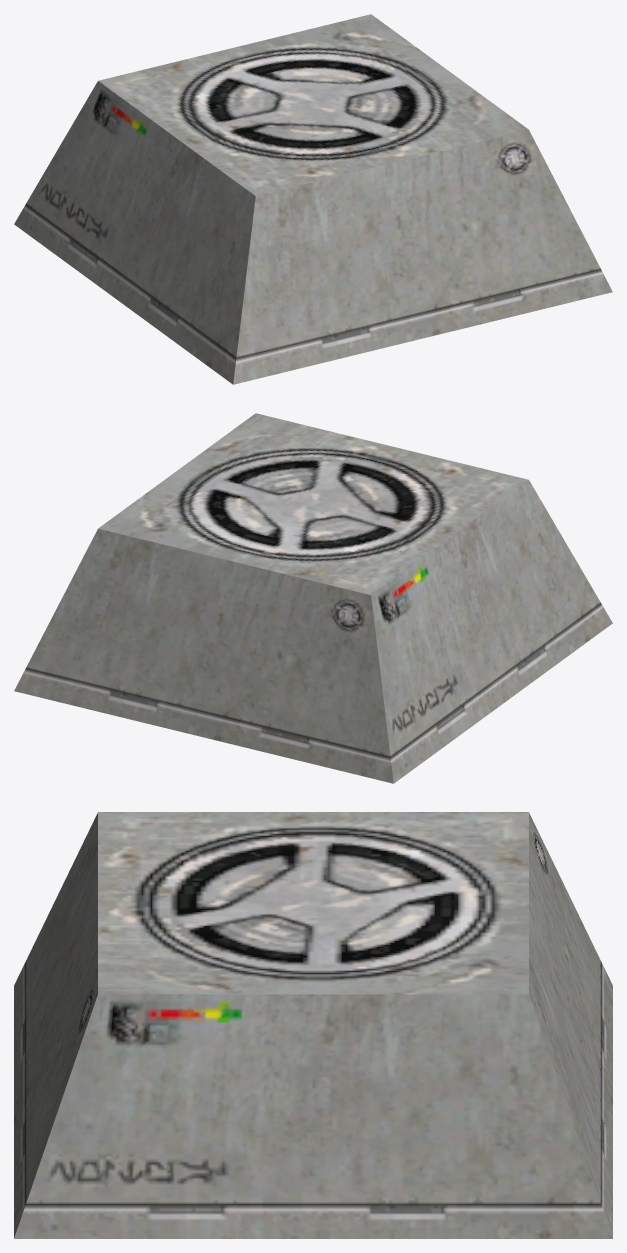
Rendered from con_gen_energy_radioactive_sml_l2.fbx.
The picture shows the model from 3 angles, top to bottom: view 1: azimuth 30°, elevation 25°; view 2: azimuth 150°, elevation 25°; view 3: azimuth 270°, elevation 25°; orthographic projection. The views are drawn at different scales.
Visible parts, largest first — view 1: mesh_node; view 2: mesh_node; view 3: mesh_node.
Part boxes in pixels (x1,y1,x2,y2): mesh_node: (14,14,612,384); mesh_node: (14,413,612,783); mesh_node: (14,812,612,1238).
Bounding box in the file's own units: 0.3106 × 0.1196 × 0.3106.
